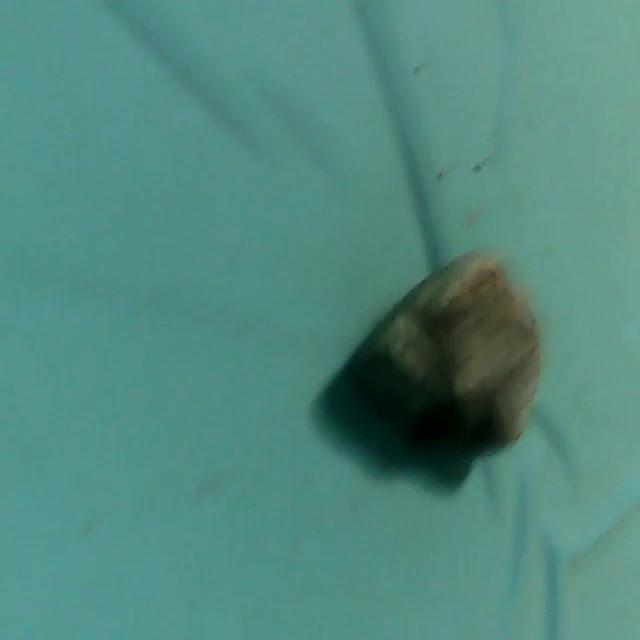rock: (323, 243, 550, 484)
